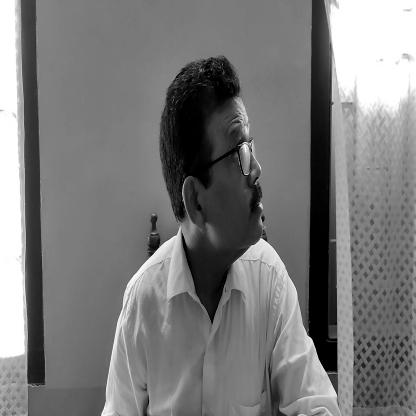Distracted: (159, 59, 267, 262)
